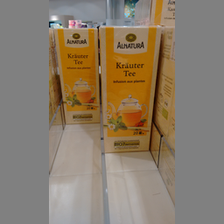tea: (100, 25, 161, 154), (53, 28, 100, 126)
